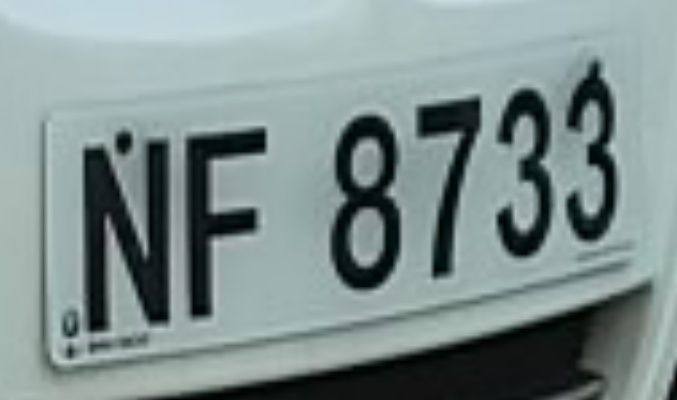3: (556, 56, 640, 265), (485, 72, 555, 268)
7: (402, 75, 490, 282)
8: (320, 93, 415, 308)
F: (173, 111, 278, 346)
N: (68, 107, 183, 357)
